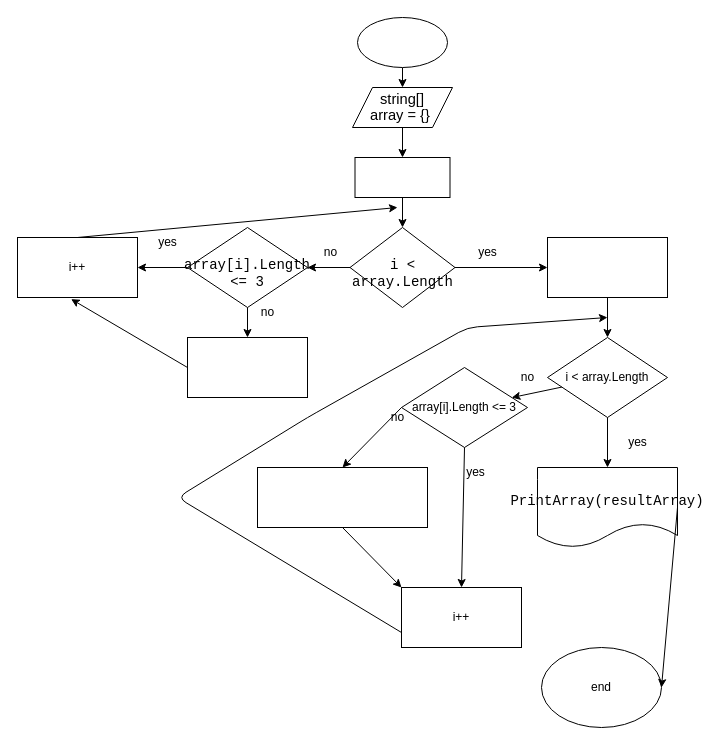
Some shapes in this 721 by 745 pixel diagram are drawn without their labels. The shapes that lost their labels are listed below. From the top down, each one's box as (x1, y1, x2, y2) in pixels, then its label:
(356, 16, 448, 68): Start
(354, 156, 450, 198): Count=0 i=0
(546, 236, 668, 298): string[] result = new string[count]; i=0
(186, 336, 308, 398): count++
(256, 466, 428, 528): result[result.Length - count] = array[i] count--
